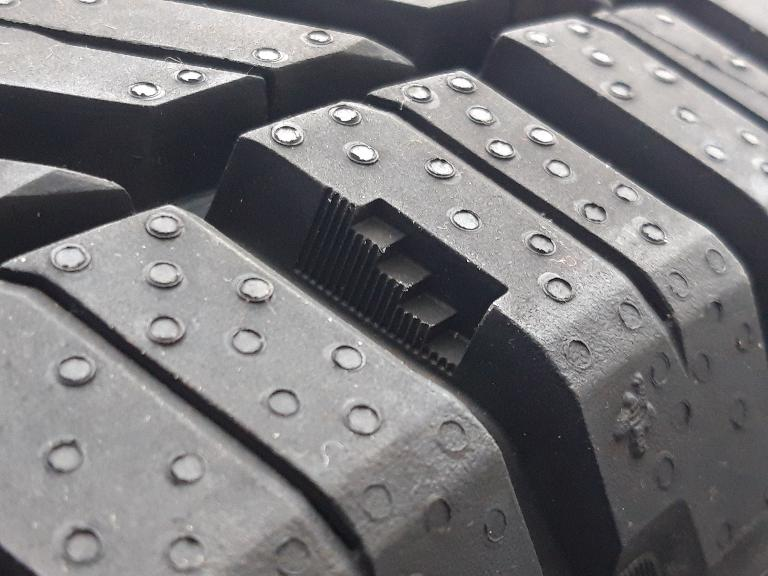temoin:100: (284, 180, 520, 395)
